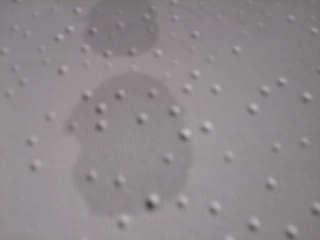Water_detected: (106, 13, 221, 194)
